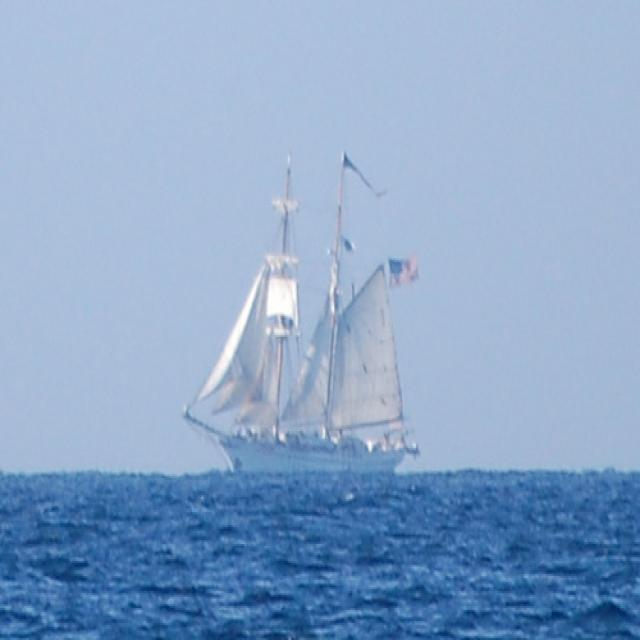Ship: (184, 164, 415, 483)
